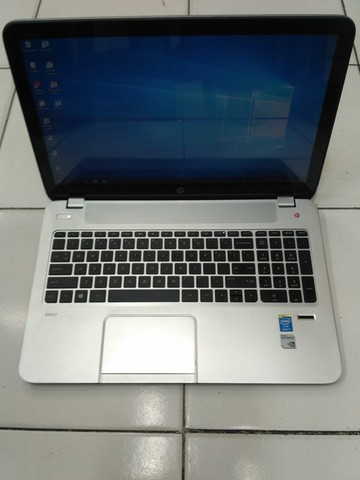Laptop: (1, 9, 357, 392)
